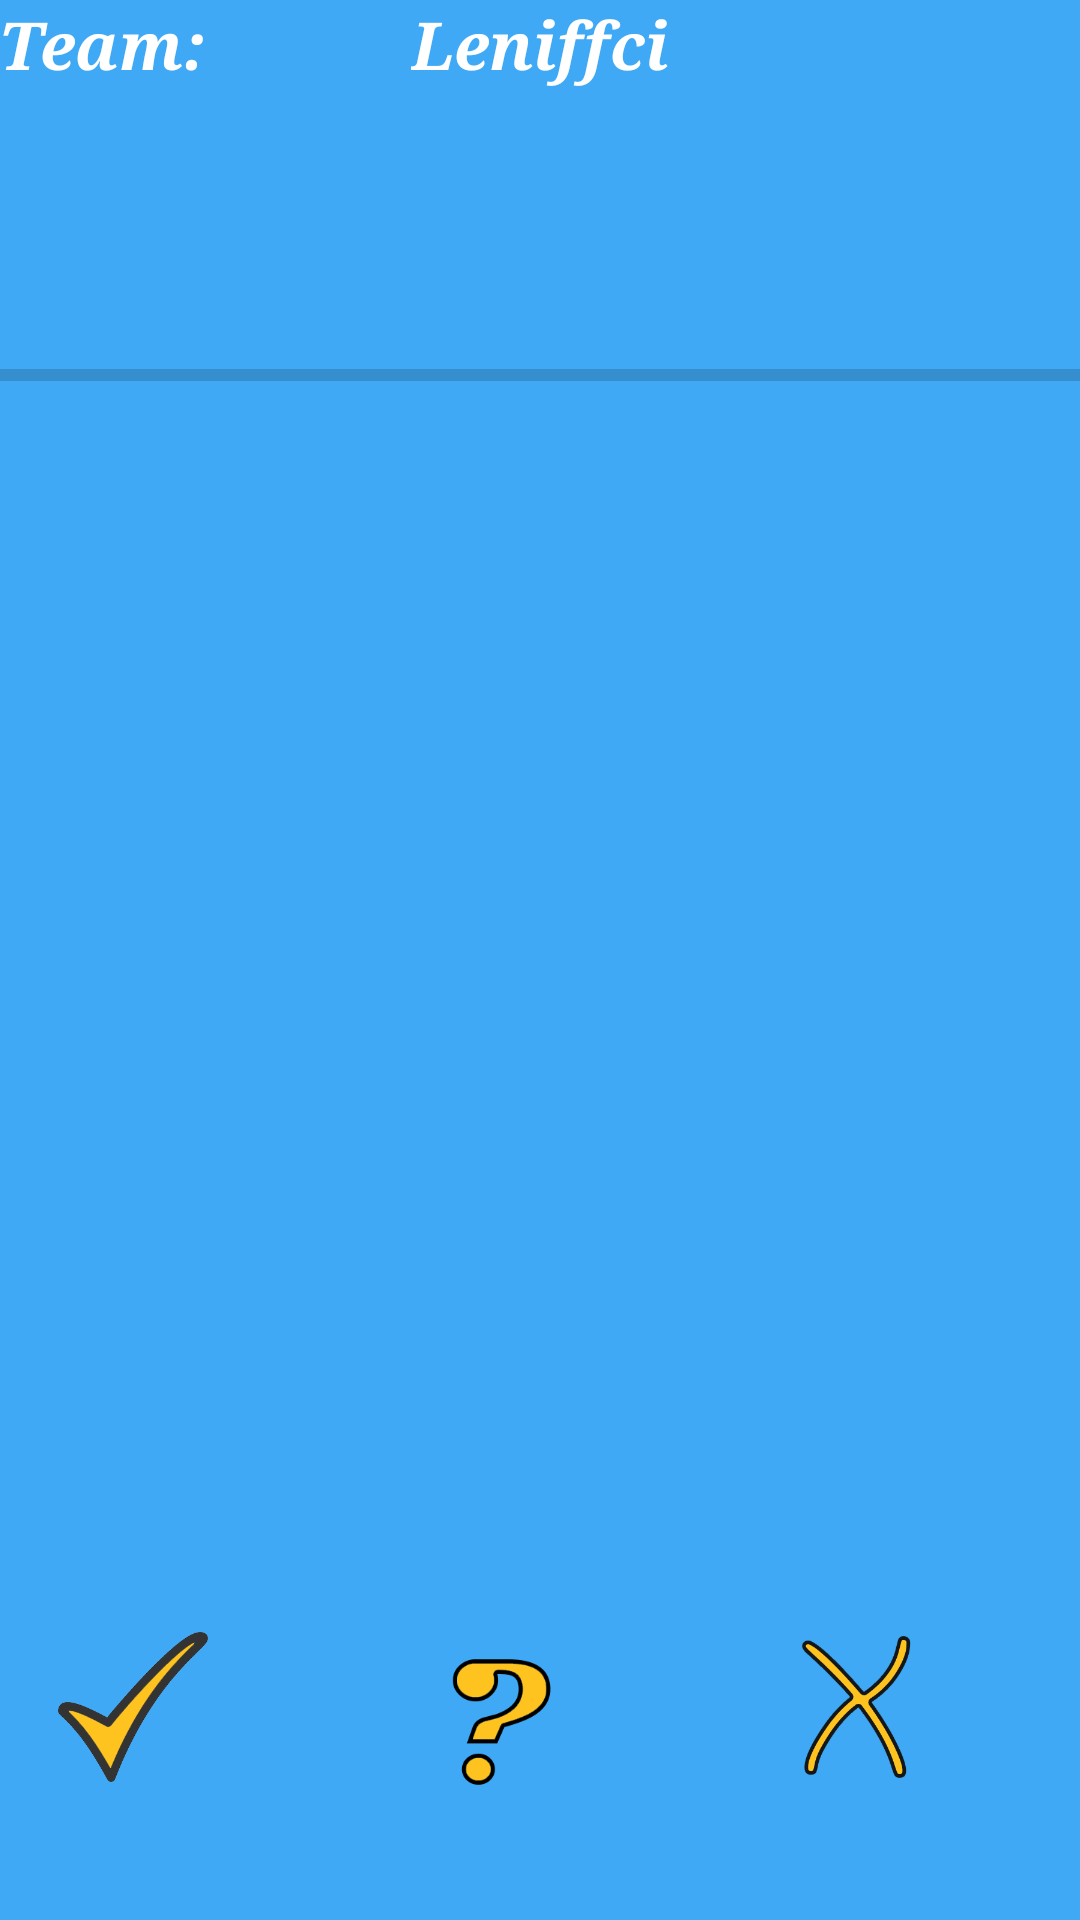

Screen size 1080px x 1920px. Icon name, then its center in pixels as (x,y):
unknown: (501,1722)
yes: (133,1707)
